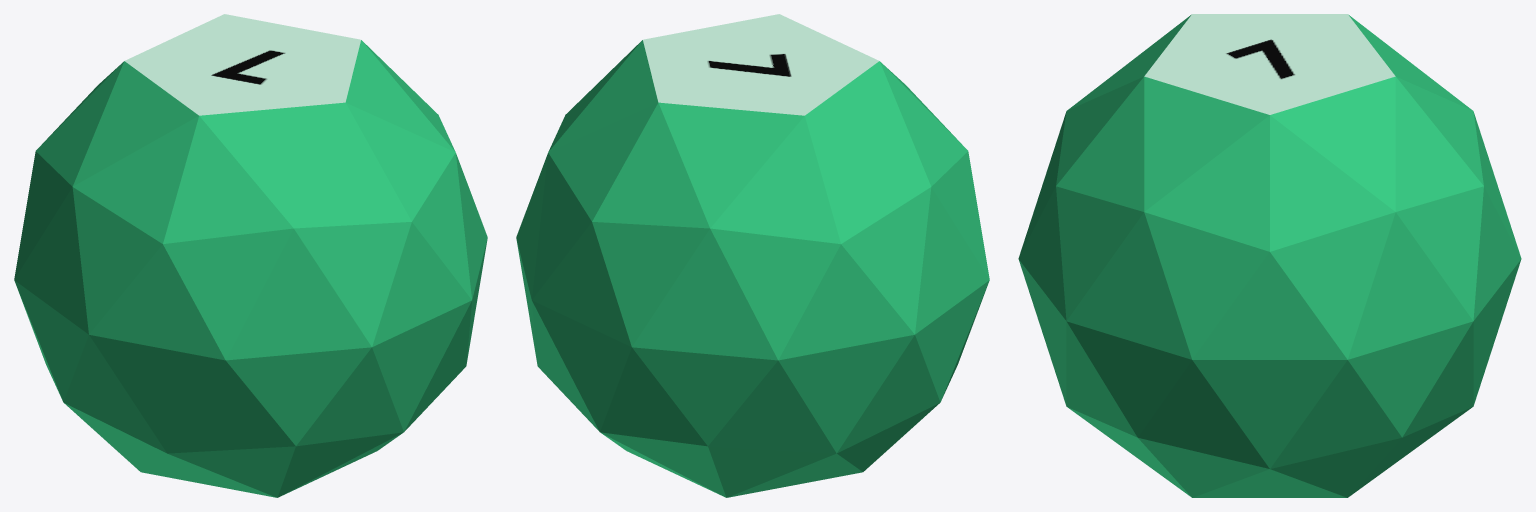
The model's file is PoolBall.fbx.
3 views of the same model, side by side, from view 1: azimuth 30°, elevation 25°; view 2: azimuth 150°, elevation 25°; view 3: azimuth 270°, elevation 25° (orthographic). The views are drawn at different scales.
Visible parts, largest first — view 1: Icosphere; view 2: Icosphere; view 3: Icosphere.
Part boxes in pixels (bbox=[...]): Icosphere: bbox=[14, 14, 487, 497]; Icosphere: bbox=[516, 14, 989, 497]; Icosphere: bbox=[1018, 14, 1521, 497].
Size of the model in its own units: 10.87 by 10.72 by 11.43.
1 material, 1 textured.
